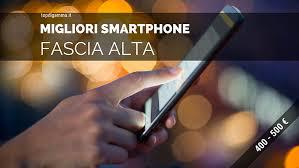Hand: (53, 66, 192, 168)
Smartphone: (138, 5, 245, 139)
